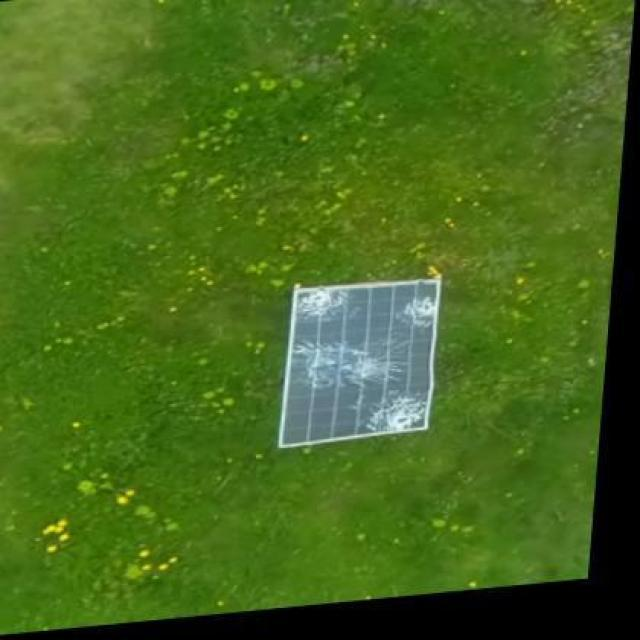cracked: (277, 282, 443, 444)
